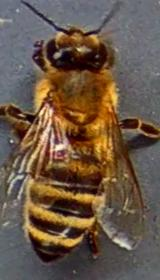varroa_mite: (38, 131, 84, 171)
